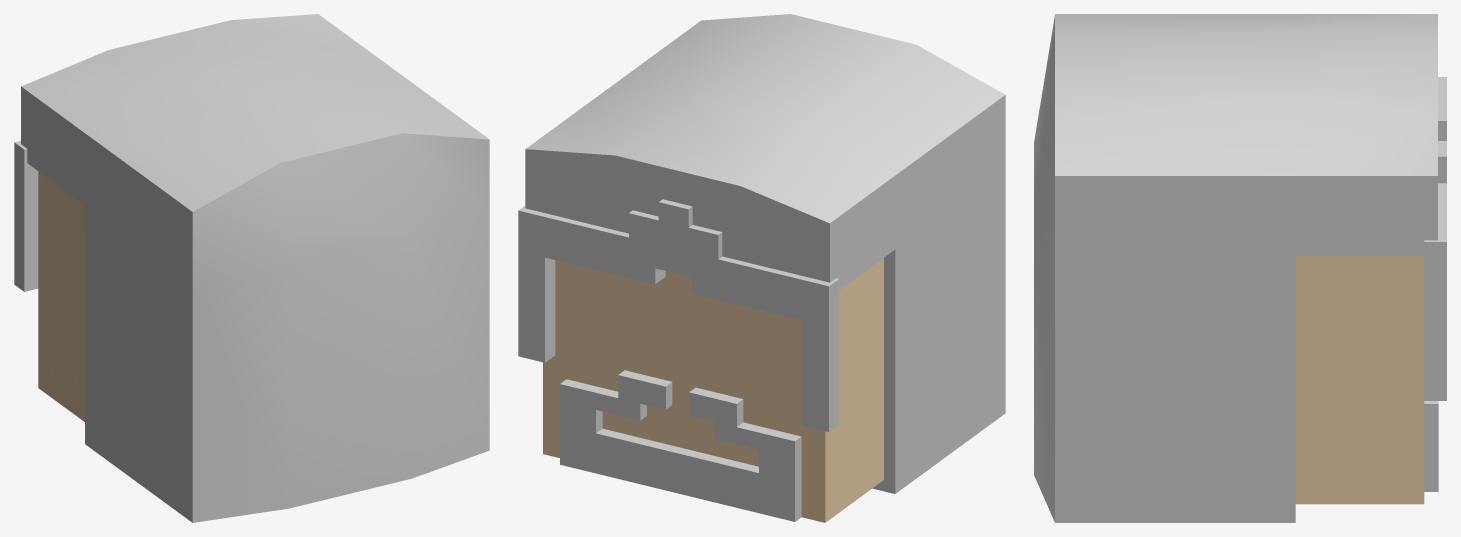
The model's file is Zeus_Head.FBX.
The picture shows the model from 3 angles, left to right: view 1: azimuth 30°, elevation 25°; view 2: azimuth 150°, elevation 25°; view 3: azimuth 270°, elevation 25°; orthographic projection. The views are drawn at different scales.
Visible parts, largest first — view 1: Head_Zeus; view 2: Head_Zeus; view 3: Head_Zeus.
Part boxes in pixels (x1=…): Head_Zeus: x1=14, y1=14, x2=489, y2=522; Head_Zeus: x1=518, y1=14, x2=1005, y2=522; Head_Zeus: x1=1034, y1=14, x2=1446, y2=522.
Bounding box in the file's own units: 14.02 × 14.8 × 14.95.
1 material, 1 textured.
